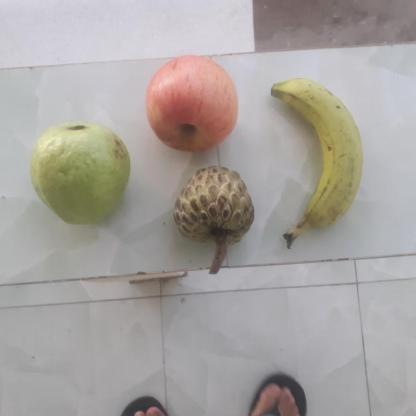annona: (170, 166, 254, 256)
apple: (141, 57, 240, 152)
banana: (270, 80, 361, 237)
guava: (28, 122, 127, 222)
